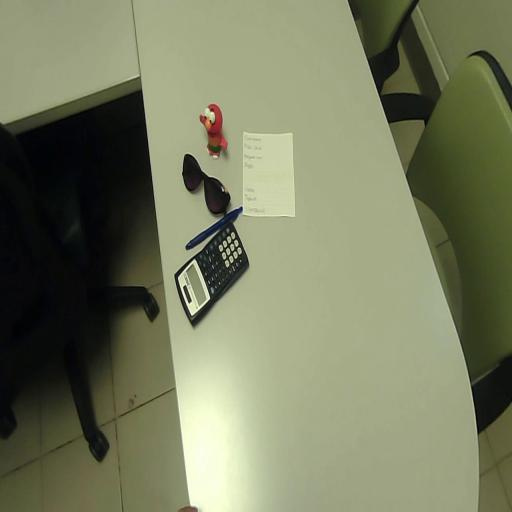pen: (186, 206, 242, 250)
